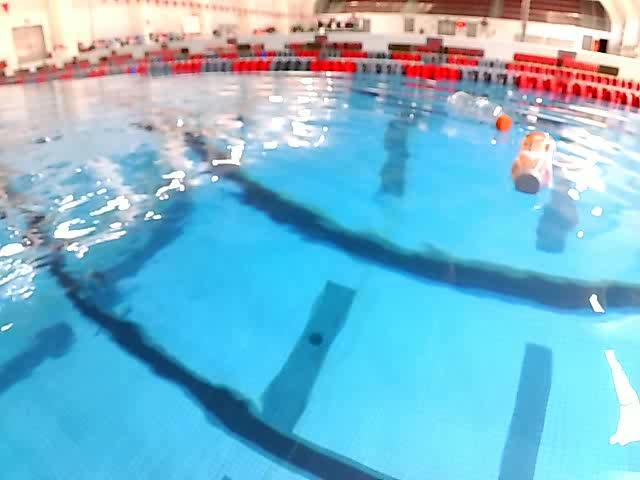Bottle: (505, 128, 558, 198), (442, 88, 517, 136)
